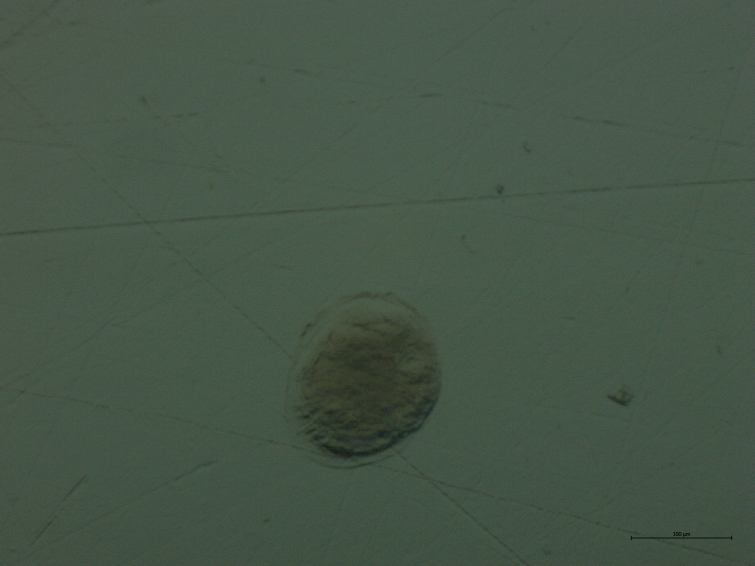oyster: (270, 276, 456, 492)
